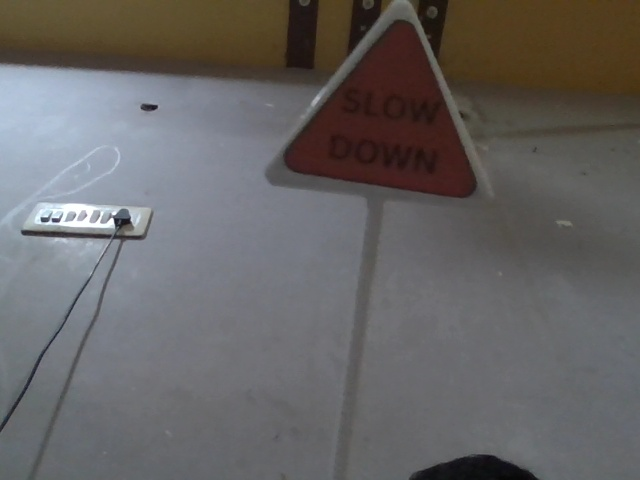slowdown: (273, 7, 506, 208)
